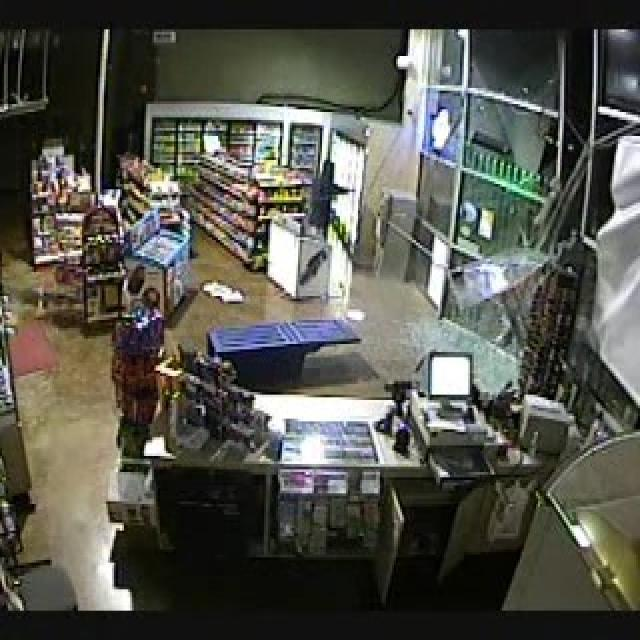burglary: (426, 117, 554, 379)
